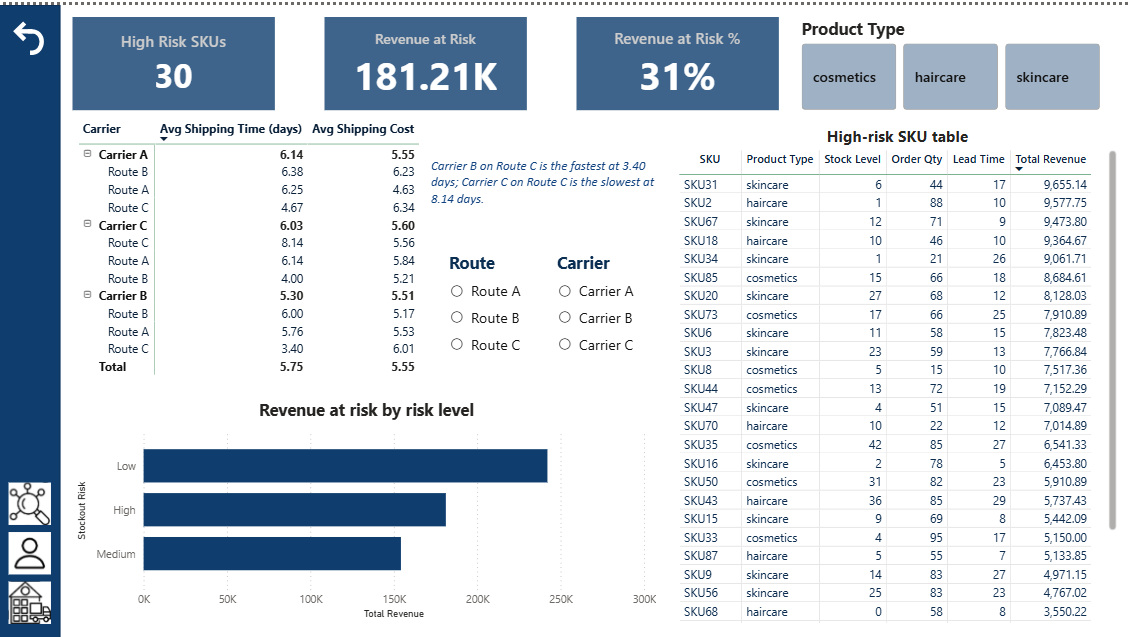

The page's visual inventory and layout, read from the dashboard file:
{"tool":"powerbi","page":{"name":"Inventory & Logistics Risk","canvas":[1280,720],"ordinal":2},"visuals":[{"type":"shape","box":[0,0,69.5,720.3],"z":0},{"type":"cardVisual","fields":{"Data":["Measures Table.High Risk SKUs"]},"box":[83.1,13.6,228.5,105.1],"z":0,"group":"g1"},{"type":"actionButton","box":[6.8,647.5,57.6,55.9],"z":0,"group":"g2"},{"type":"cardVisual","fields":{"Data":["Measures Table.Revenue at Risk"]},"box":[368,13.6,228.5,105.1],"z":1000,"group":"g1"},{"type":"advancedSlicerVisual","title":"Product Type","fields":{"Values":["DimProduct.ProductType"]},"box":[901.7,13.6,349.2,110.2],"z":1000},{"type":"actionButton","box":[6.8,591.5,57.6,55.9],"z":1000,"group":"g2"},{"type":"group","id":"g1","title":"Group 1","box":[83.1,13.6,798.3,105.1],"z":2000},{"type":"actionButton","box":[6.8,535.6,57.6,55.9],"z":2000,"group":"g2"},{"type":"cardVisual","fields":{"Data":["Measures Table.Revenue at Risk %"]},"box":[652.9,13.6,228.5,105.1],"z":3000,"group":"g1"},{"type":"clusteredBarChart","title":"Revenue at risk by risk level","fields":{"Category":["FactSupplyChain.Stockout Risk"],"Y":["Measures Table.Total Revenue"]},"box":[83.1,444.1,664.4,254.2],"z":3000},{"type":"tableEx","title":"High-risk SKU table","fields":{"Values":["DimProduct.SKU","DimProduct.ProductType","FactSupplyChain.StockLevel","FactSupplyChain.OrderQty","Sum(FactSupplyChain.LeadTime)","Measures Table.Total Revenue"]},"box":[762.7,135.6,505.1,567.8],"z":4000},{"type":"pivotTable","fields":{"Rows":["DimShipping.Carrier","DimShipping.Route"],"Values":["Measures Table.Avg Shipping Time (days)","Measures Table.Avg Shipping Cost"]},"box":[84.7,123.7,396.6,306.8],"z":5000},{"type":"listSlicer","fields":{"Values":["DimShipping.Carrier"]},"box":[625.4,278,122,132.2],"z":6000},{"type":"listSlicer","fields":{"Values":["DimShipping.Route"]},"box":[503.4,278,122,132.2],"z":7000},{"type":"textbox","box":[483.1,166.1,264.4,67.8],"z":8000},{"type":"actionButton","box":[10.2,13.6,50.8,47.5],"z":9000},{"type":"group","id":"g2","title":"Navigation Buttons","box":[6.8,535.6,57.6,167.8],"z":10000}]}

Visuals, with their boxes on the page's 1280x720 design canvas (x1, y1, x2, y2). These are canvas units, not pixel positions in the 1132x637 screenshot, which may show the page scaled, cropped or inside an application window:
shape: x1=0, y1=0, x2=70, y2=720
cardVisual - Measures Table.High Risk SKUs: x1=83, y1=14, x2=312, y2=119
actionButton: x1=7, y1=648, x2=64, y2=703
cardVisual - Measures Table.Revenue at Risk: x1=368, y1=14, x2=596, y2=119
"Product Type" advancedSlicerVisual: x1=902, y1=14, x2=1251, y2=124
actionButton: x1=7, y1=592, x2=64, y2=647
"Group 1" group: x1=83, y1=14, x2=881, y2=119
actionButton: x1=7, y1=536, x2=64, y2=592
cardVisual - Measures Table.Revenue at Risk %: x1=653, y1=14, x2=881, y2=119
"Revenue at risk by risk level" clusteredBarChart: x1=83, y1=444, x2=748, y2=698
"High-risk SKU table" tableEx: x1=763, y1=136, x2=1268, y2=703
pivotTable - DimShipping.Carrier x DimShipping.Route: x1=85, y1=124, x2=481, y2=430
listSlicer - DimShipping.Carrier: x1=625, y1=278, x2=747, y2=410
listSlicer - DimShipping.Route: x1=503, y1=278, x2=625, y2=410
textbox: x1=483, y1=166, x2=748, y2=234
actionButton: x1=10, y1=14, x2=61, y2=61
"Navigation Buttons" group: x1=7, y1=536, x2=64, y2=703
